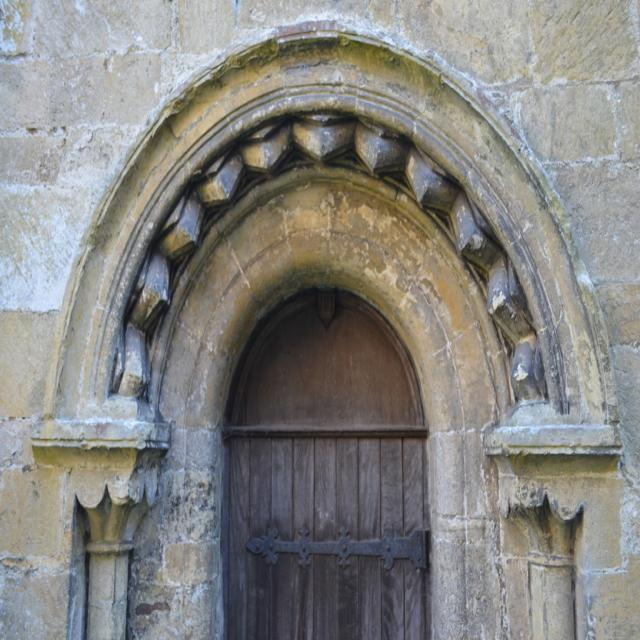door_local: (210, 269, 437, 640)
